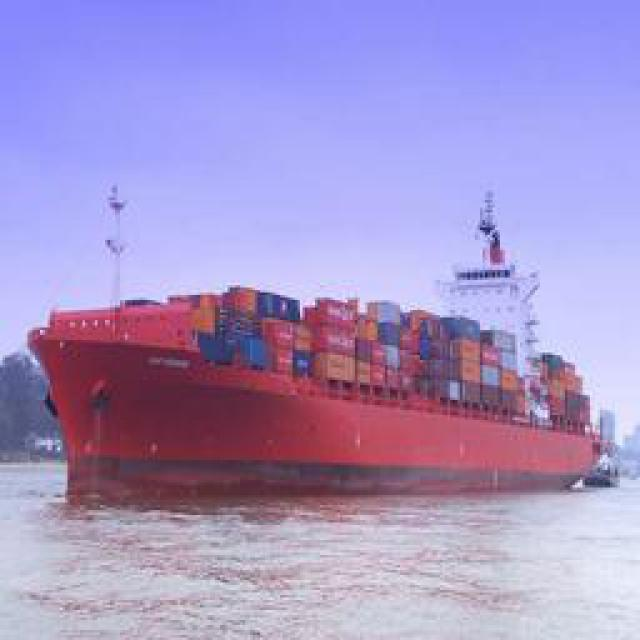Ship: (35, 183, 610, 498)
